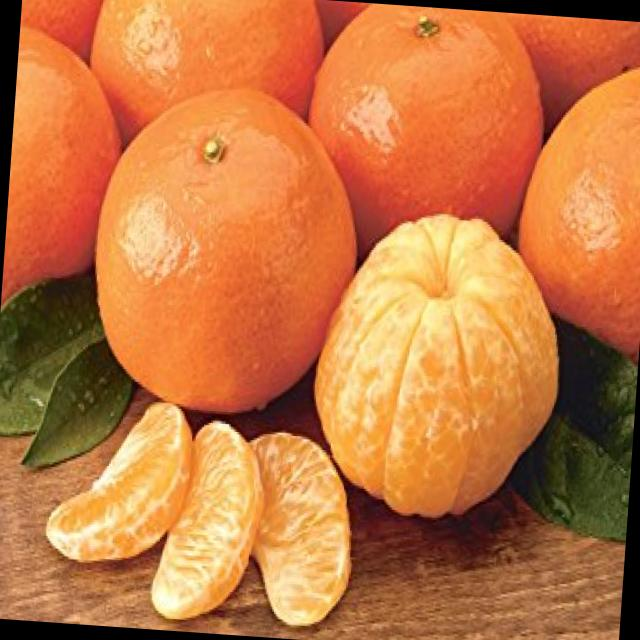orange: (66, 79, 362, 434), (287, 0, 558, 273), (68, 0, 330, 200), (507, 52, 640, 371), (0, 12, 128, 312)
